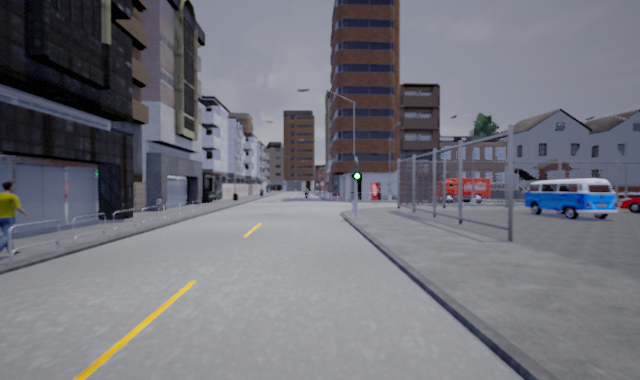pedestrian: (1, 180, 29, 261)
traffic_light: (352, 168, 361, 181)
vehicle: (524, 179, 620, 221), (427, 177, 492, 203), (619, 194, 640, 213)
